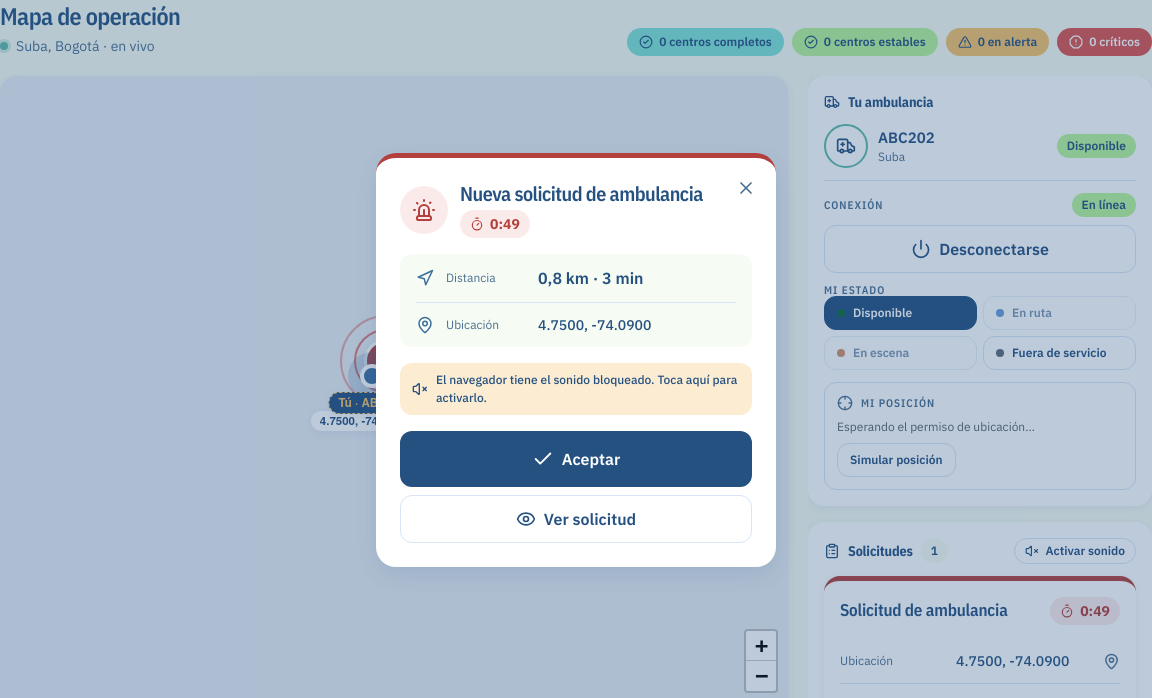
Scenario: DriverConsolePage connection off demo mode › reconnecting before the request expires brings it back
Click the button "Desconectarse" at point(980, 249), box [824,225,1136,273]
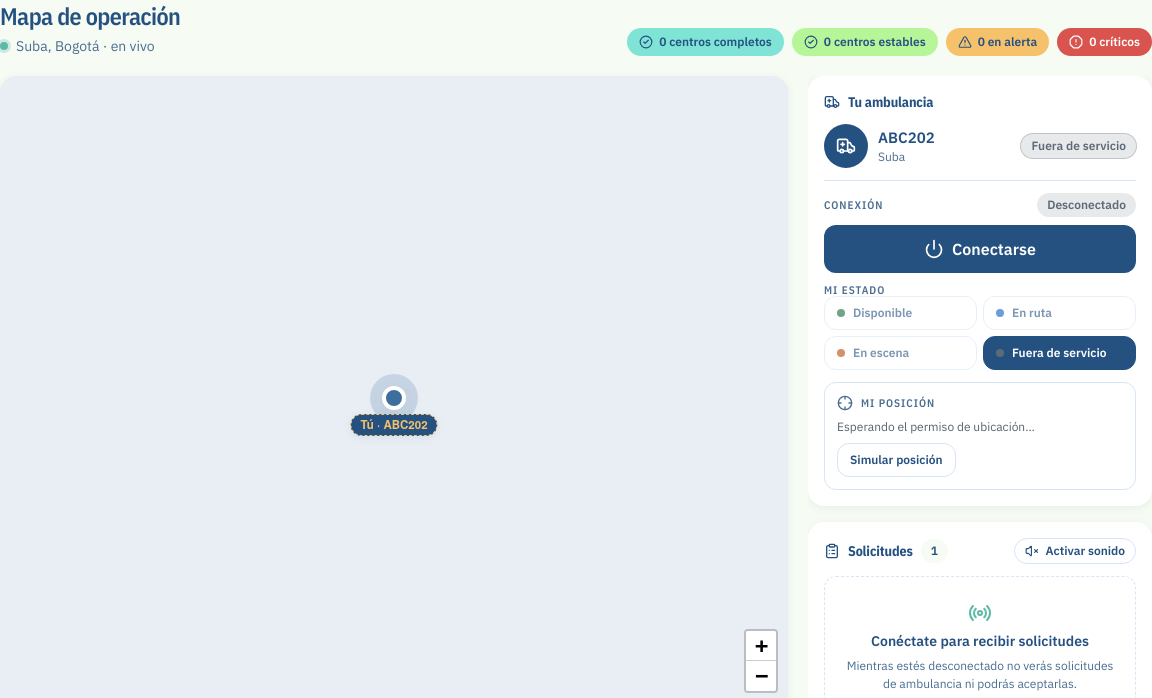
Result: the text "Desconectado" is shown at [1037,193,1136,217]
Click the button "Conectarse" at point(980, 249), box [824,225,1136,273]
(page scrolled)
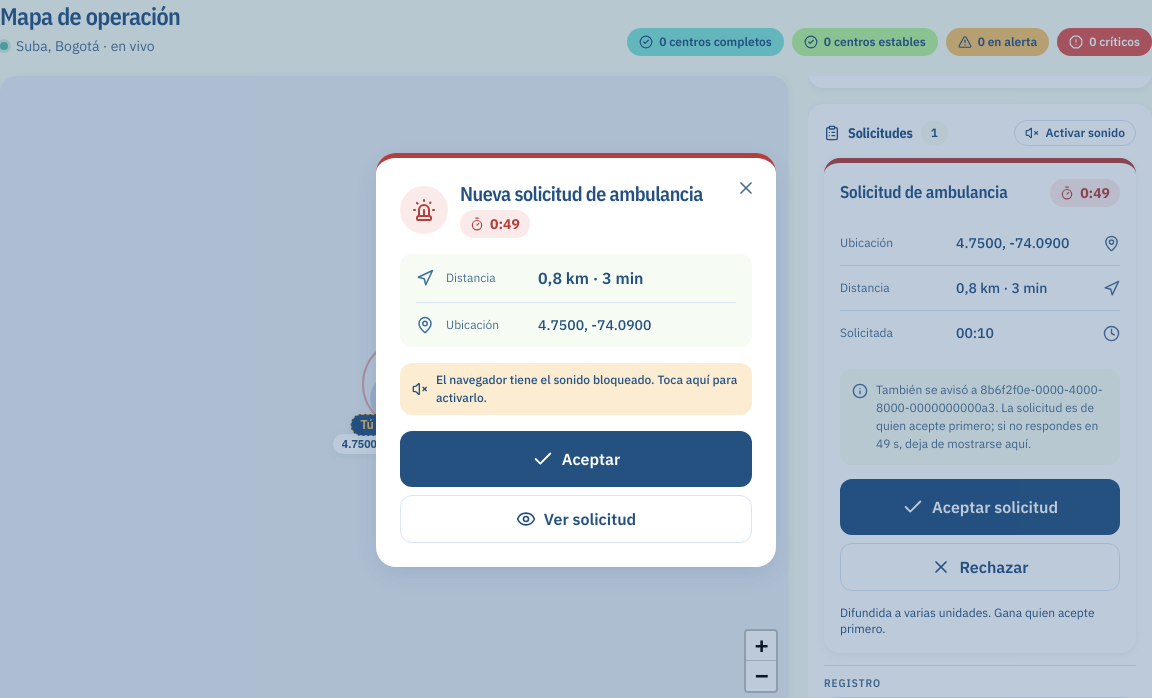
Result: the element "Solicitud de ambulancia" is shown at [824,158,1136,653]
